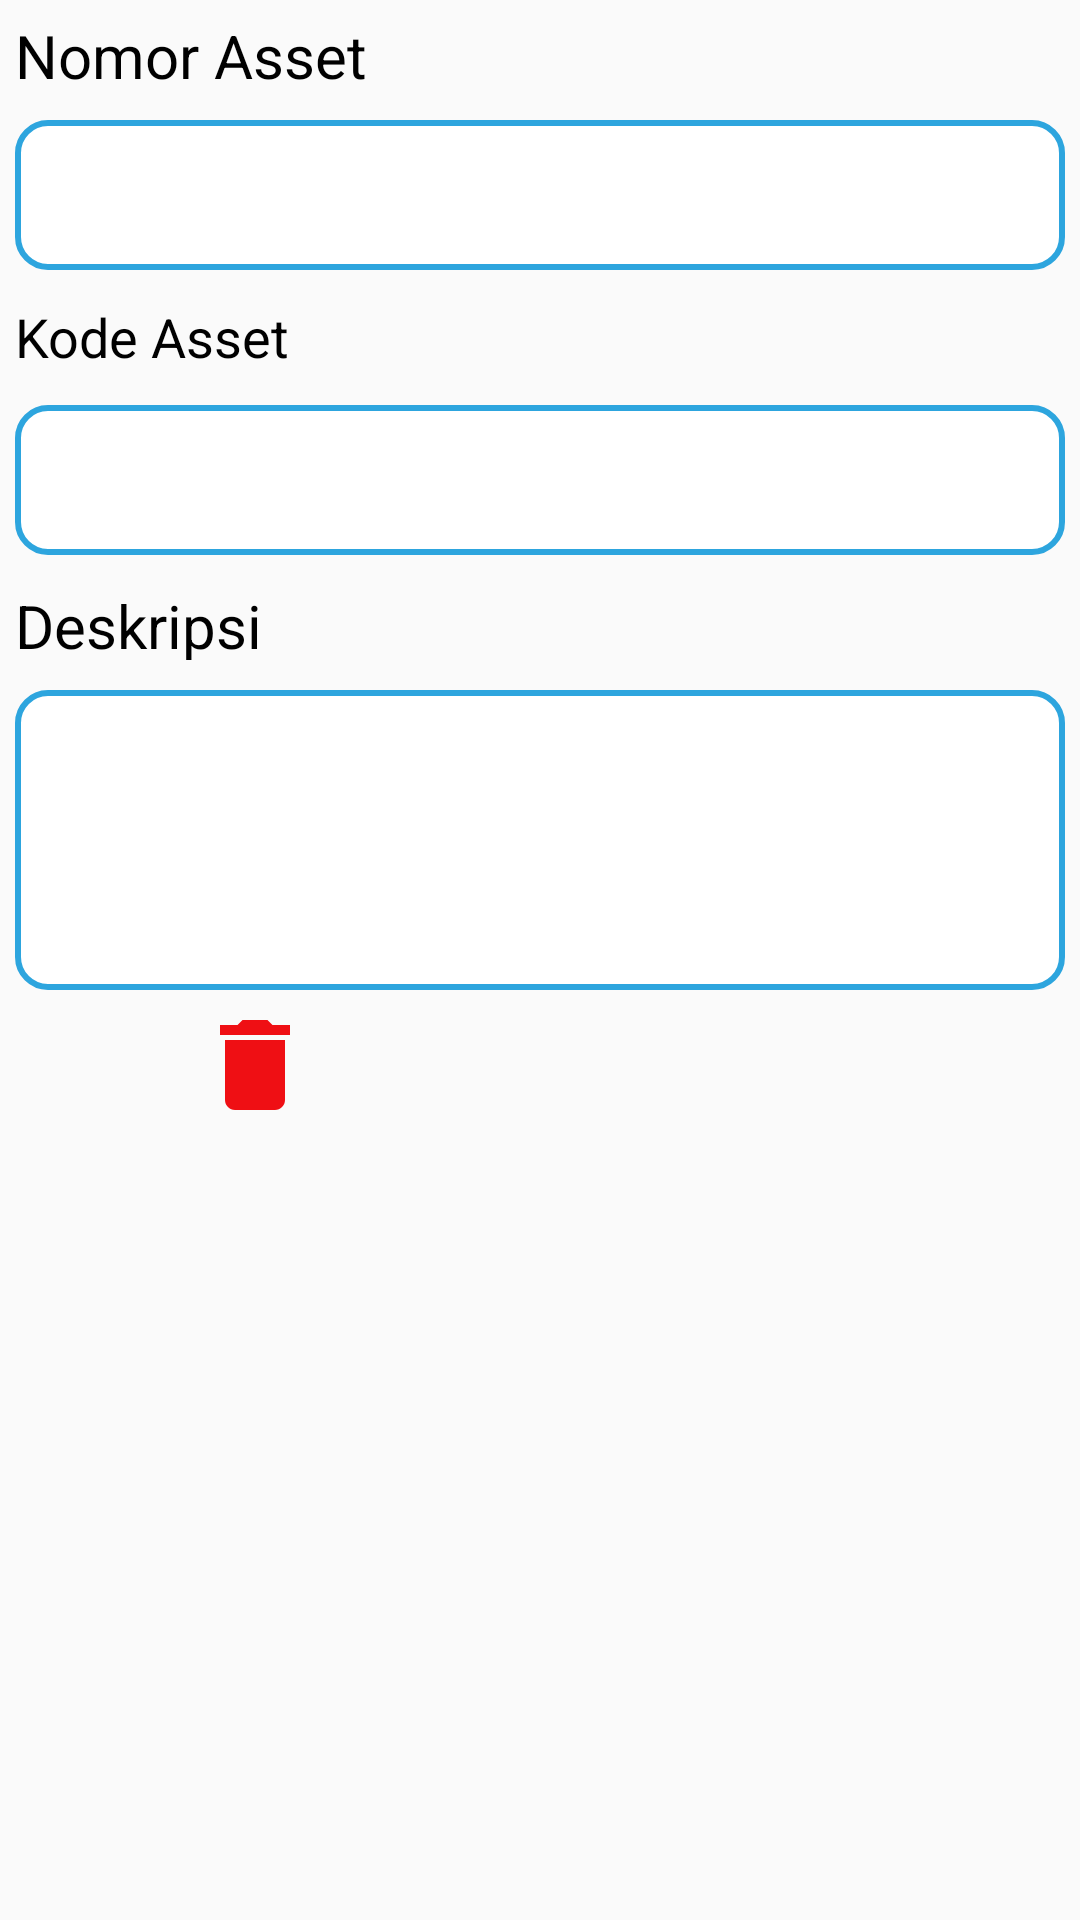

Point at icon controls on the screen. Image size 1080x1920, points as (x=x, y=y).
delete: (x=255, y=1065)
